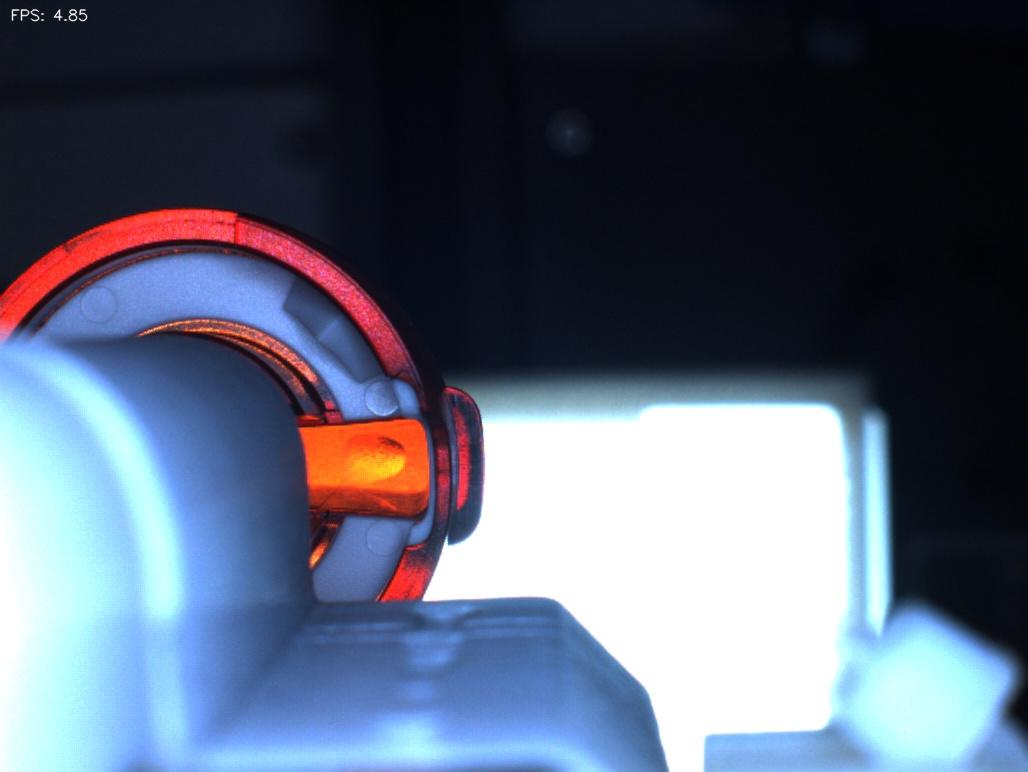Retassure: (318, 426, 420, 498)
